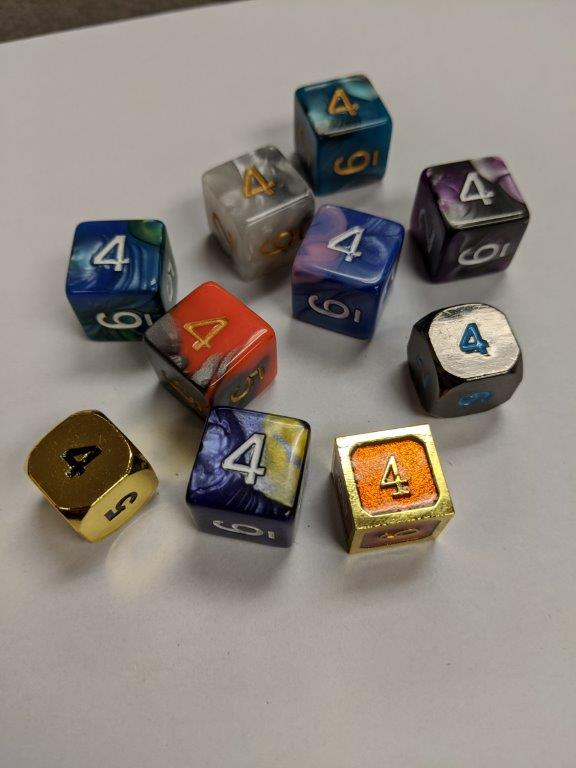d6-4: (20, 407, 163, 549), (141, 279, 279, 423), (179, 404, 312, 548), (335, 422, 457, 557), (288, 204, 402, 336), (404, 298, 522, 423), (200, 145, 310, 278), (416, 155, 527, 281), (61, 221, 176, 327), (294, 72, 393, 195)
